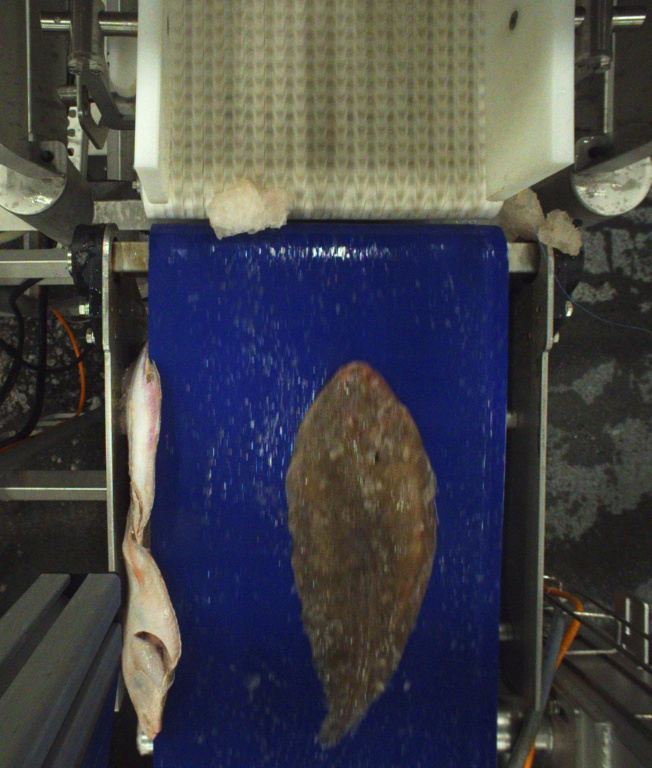SOL: (287, 360, 436, 748)
